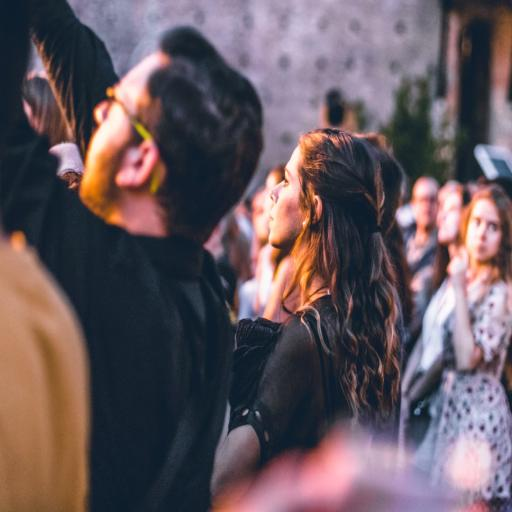face: (80, 51, 169, 218), (269, 147, 303, 250), (466, 199, 502, 264), (412, 179, 438, 231), (438, 191, 462, 244)
